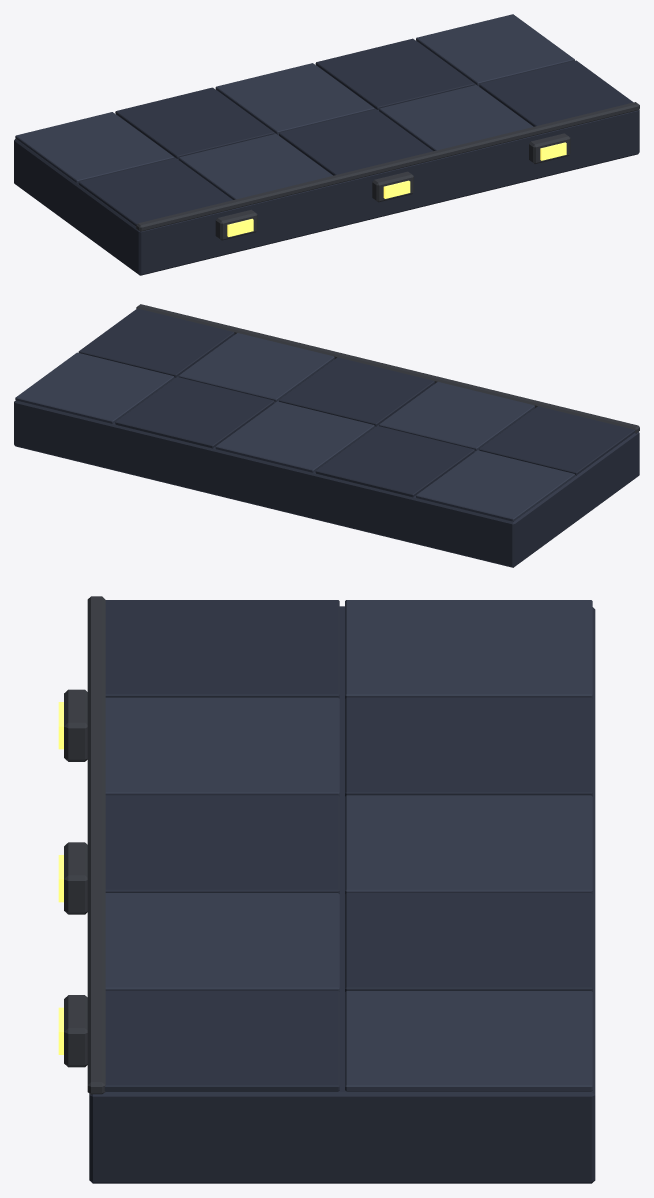
Rendered from riser.glb.
3 views of the same model, one above another, from view 1: azimuth 30°, elevation 25°; view 2: azimuth 150°, elevation 25°; view 3: azimuth 270°, elevation 25° (orthographic). The views are drawn at different scales.
Parts seen in each view (by area): view 1: riser; view 2: riser; view 3: riser.
Boxes of the visible parts, x1,y1,x2,y2 form: riser: [14, 14, 639, 275]; riser: [14, 304, 639, 567]; riser: [58, 596, 595, 1183].
Bounding box in the file's own units: 3.2 × 0.31 × 1.48.
